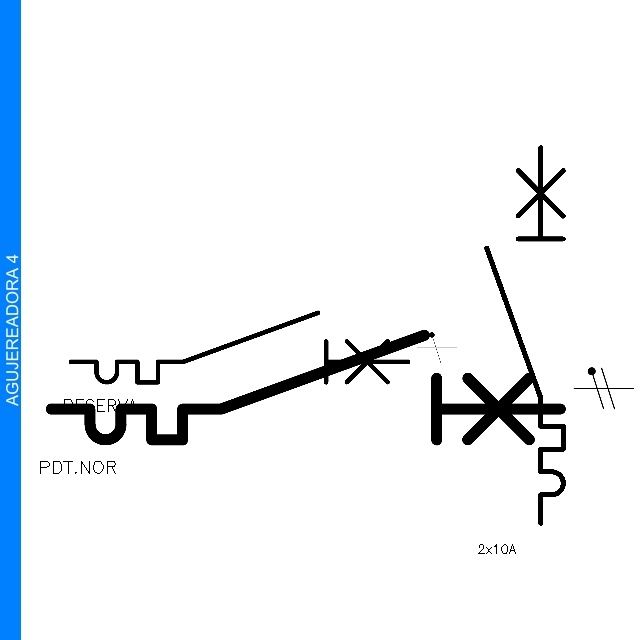interruptor_termomagnetico: (38, 322, 573, 453), (477, 138, 573, 533), (62, 304, 417, 391)
